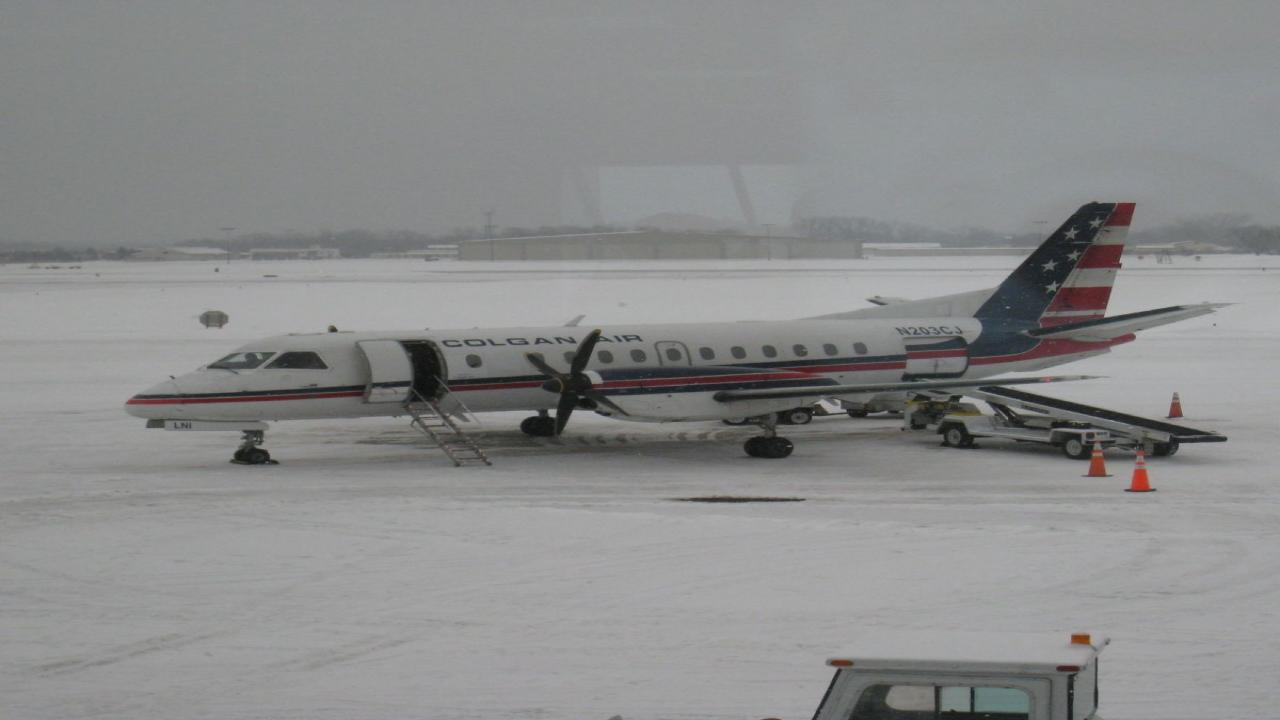Airplane: (115, 189, 1245, 472)
